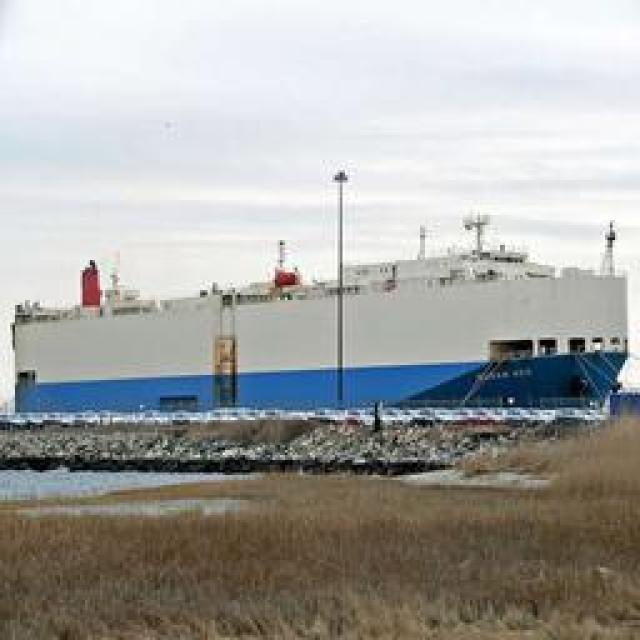CIV_Ship: (1, 255, 634, 433)
